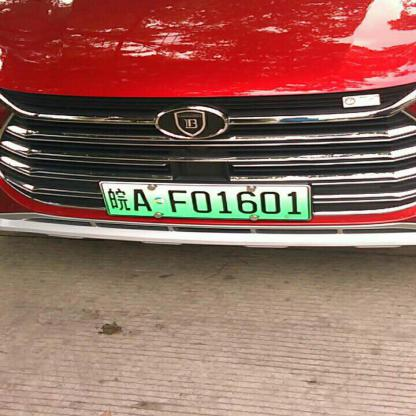lp: (102, 182, 309, 218)
